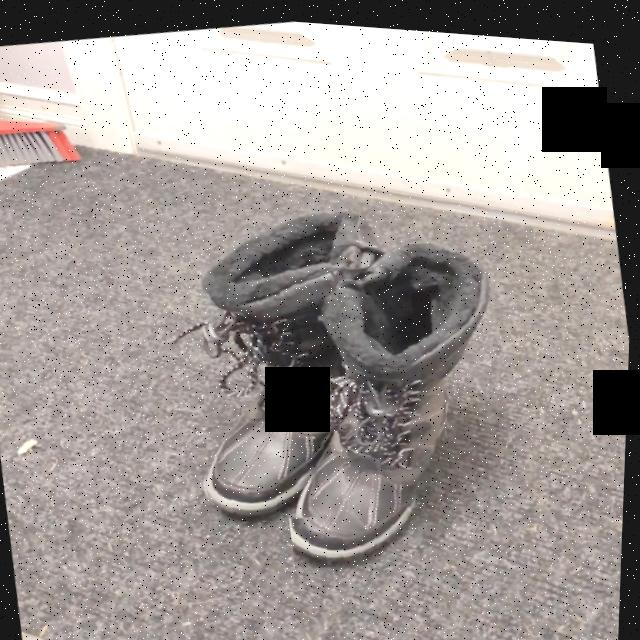shoe: (292, 386, 449, 562), (210, 362, 344, 520)
